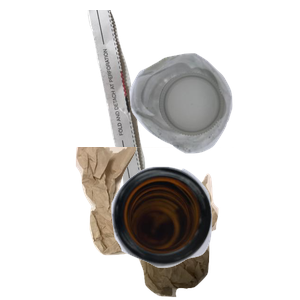glass: (109, 164, 300, 300)
paper: (85, 10, 224, 190)
plastic: (127, 51, 300, 197)
trash: (73, 147, 300, 300)
